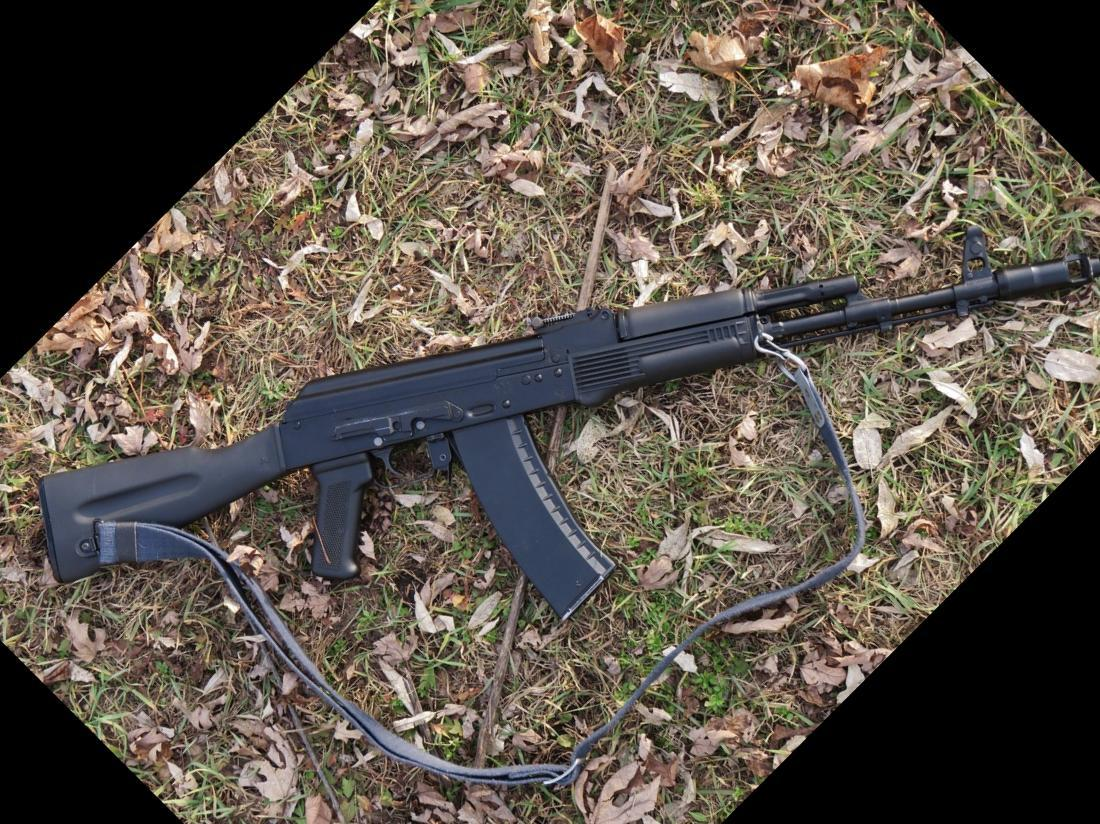larga: (36, 227, 1100, 622)
